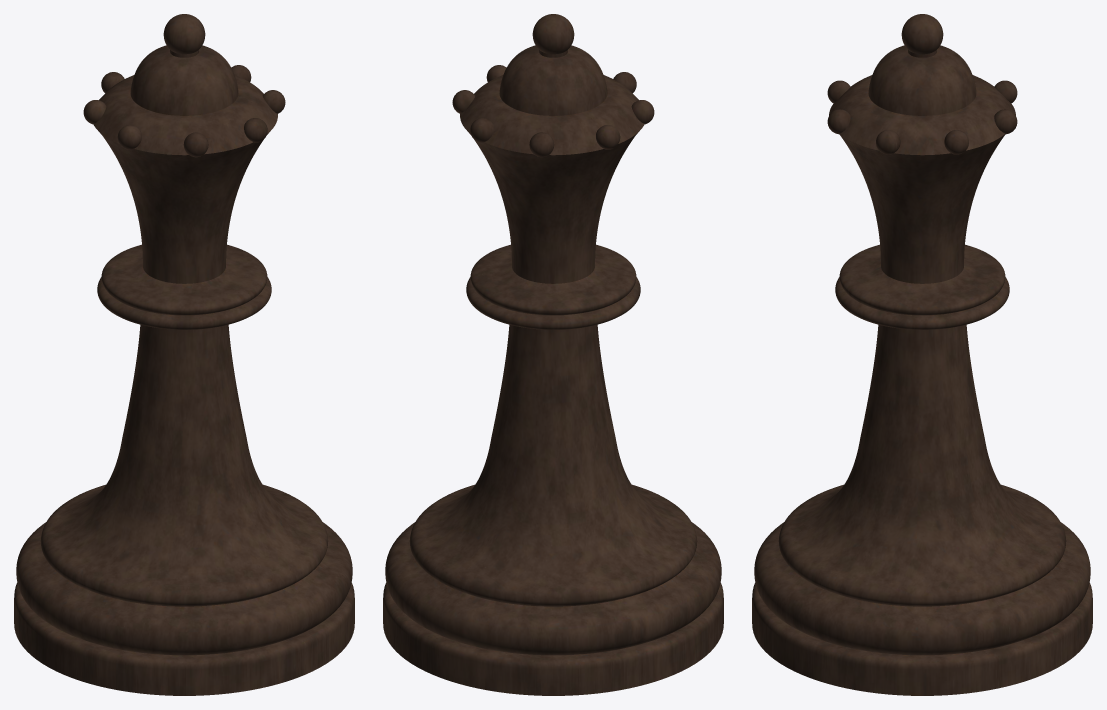
File: dame_schwarz.glb
3 renders of one model, left to right at view 1: azimuth 30°, elevation 25°; view 2: azimuth 150°, elevation 25°; view 3: azimuth 270°, elevation 25°, orthographic.
Visible parts, largest first — view 1: dame_schwarz; view 2: dame_schwarz; view 3: dame_schwarz.
Part boxes in pixels (x1,y1,x2,y2): dame_schwarz: [14, 14, 354, 695]; dame_schwarz: [383, 14, 723, 695]; dame_schwarz: [752, 14, 1092, 695].
Bounding box in the file's own units: 0.82 × 1.62 × 0.82.
1 material, 1 textured.
